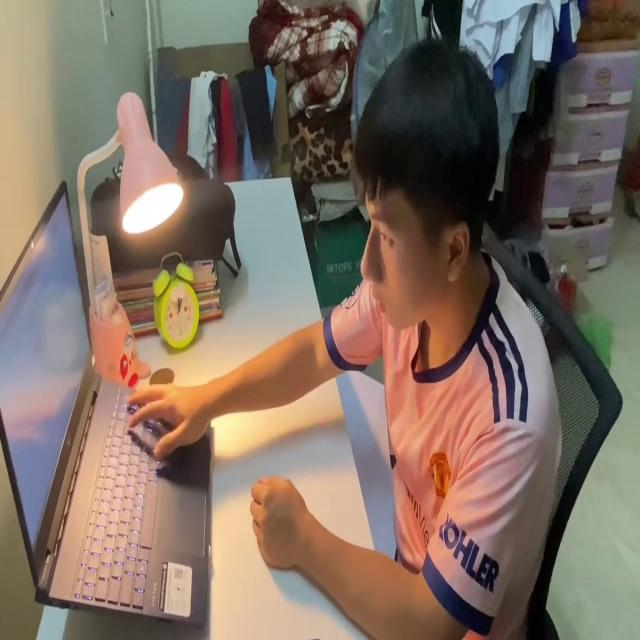book: (333, 361, 399, 577)
laptop: (2, 174, 214, 632)
student: (122, 37, 564, 640)
